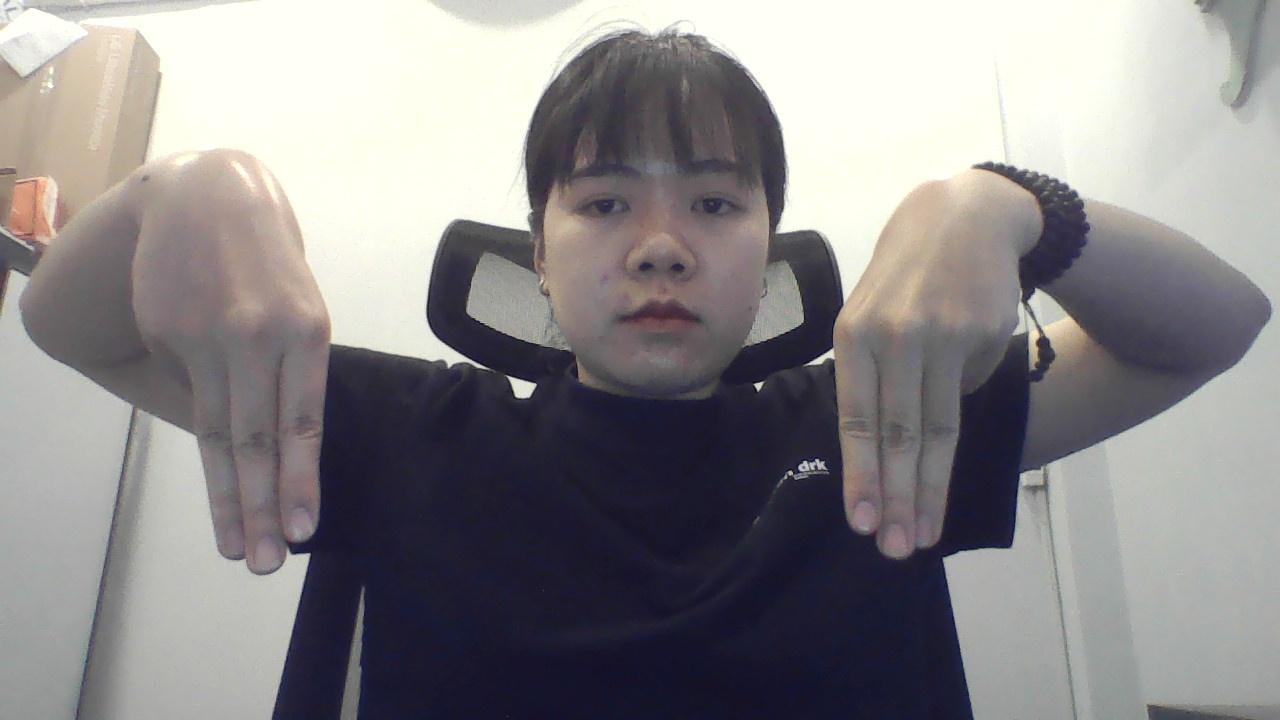M: (816, 159, 1026, 597), (122, 159, 334, 589)
